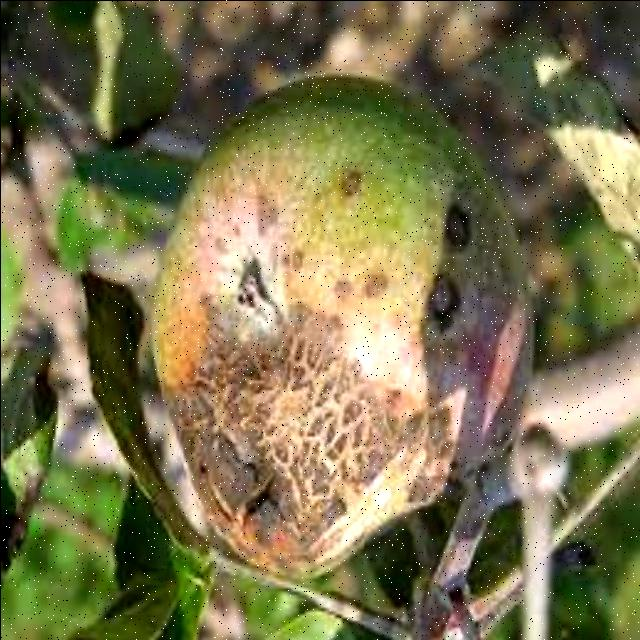SCAB: (99, 48, 539, 578)
